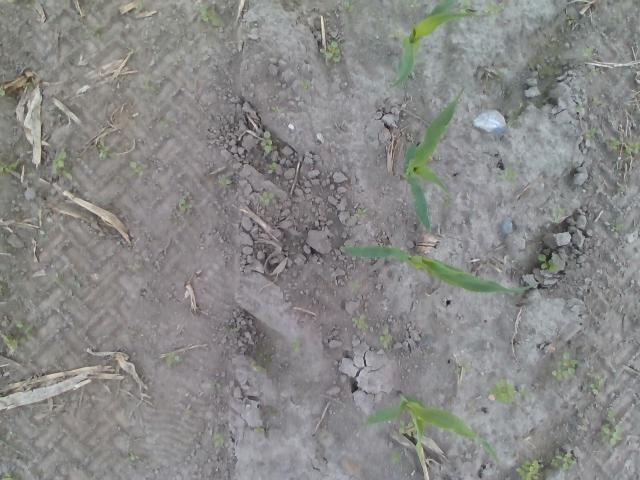Maize: (340, 240, 538, 298), (364, 391, 504, 464), (402, 86, 467, 238), (391, 0, 472, 86)
Weeds: (487, 377, 533, 407), (598, 402, 624, 450), (551, 350, 579, 378), (514, 455, 544, 480), (548, 450, 578, 472), (52, 151, 74, 180), (606, 136, 640, 154), (320, 38, 342, 64), (201, 1, 223, 26), (586, 366, 604, 394), (536, 252, 562, 271), (258, 126, 273, 155), (16, 319, 34, 343), (496, 166, 520, 184), (380, 327, 396, 352), (0, 331, 18, 353), (550, 206, 568, 224), (6, 0, 42, 9), (210, 430, 226, 450), (166, 350, 183, 368), (128, 159, 144, 177), (385, 450, 402, 466), (0, 158, 17, 174), (257, 189, 273, 206), (350, 314, 368, 329), (159, 113, 176, 127), (608, 222, 626, 234), (290, 336, 302, 354), (98, 142, 110, 160), (217, 175, 235, 187), (590, 95, 608, 107), (264, 160, 280, 173), (0, 471, 23, 480), (482, 0, 498, 11), (179, 191, 189, 208), (341, 0, 354, 13), (354, 206, 368, 218), (397, 0, 418, 8), (208, 377, 226, 386), (0, 277, 8, 297), (128, 450, 141, 462), (584, 126, 596, 139), (144, 82, 158, 93), (390, 29, 402, 41), (270, 106, 288, 114), (93, 22, 104, 34), (456, 361, 466, 374), (583, 47, 593, 60), (564, 15, 576, 25), (72, 274, 80, 288), (592, 66, 602, 77), (461, 0, 474, 8), (302, 78, 312, 88), (528, 60, 536, 72), (351, 280, 362, 288), (136, 3, 145, 12), (176, 53, 183, 64), (0, 84, 6, 96), (253, 427, 264, 433), (28, 84, 34, 91), (616, 187, 624, 192), (618, 128, 624, 133)
